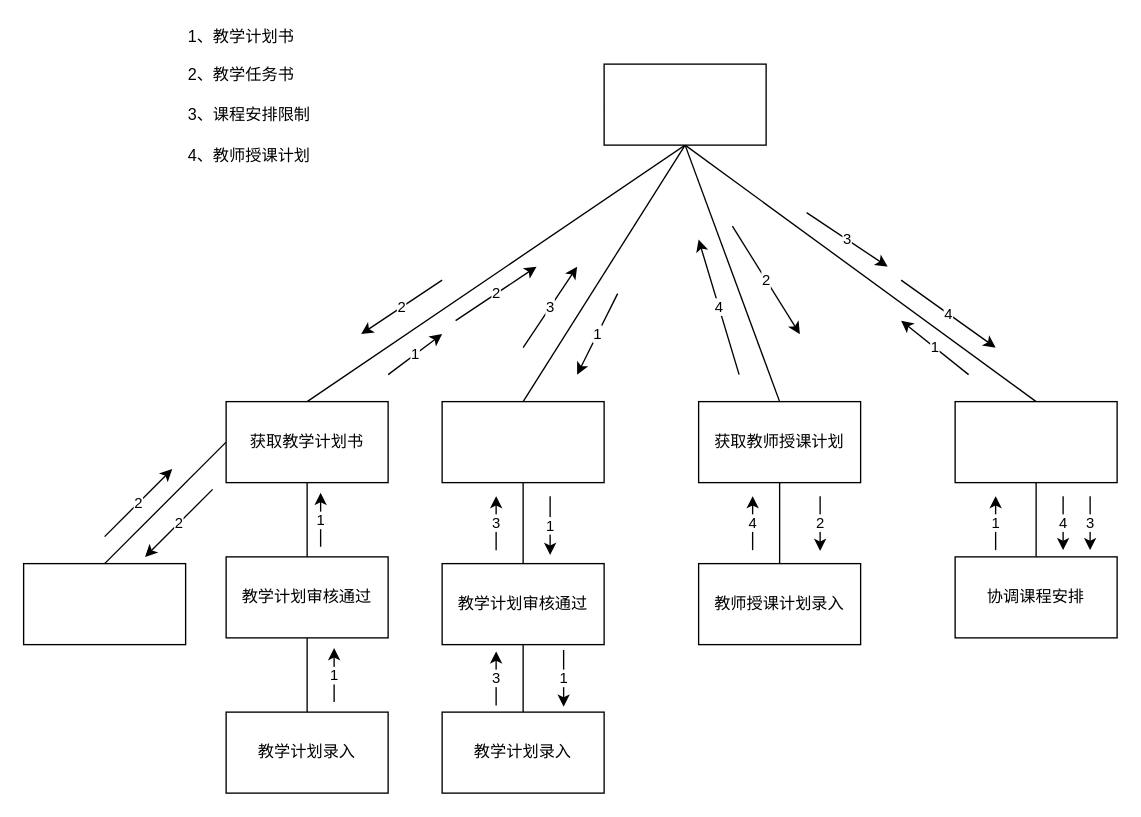
This 1141x817 diagram has some shape labels left out. The centre of each missing label's shape, as x and y in pixels:
教务管理系统: pixel 684 104
教学任务书: pixel 104 603
获取教学任务书: pixel 1035 441
获取课程安排限制: pixel 522 441
